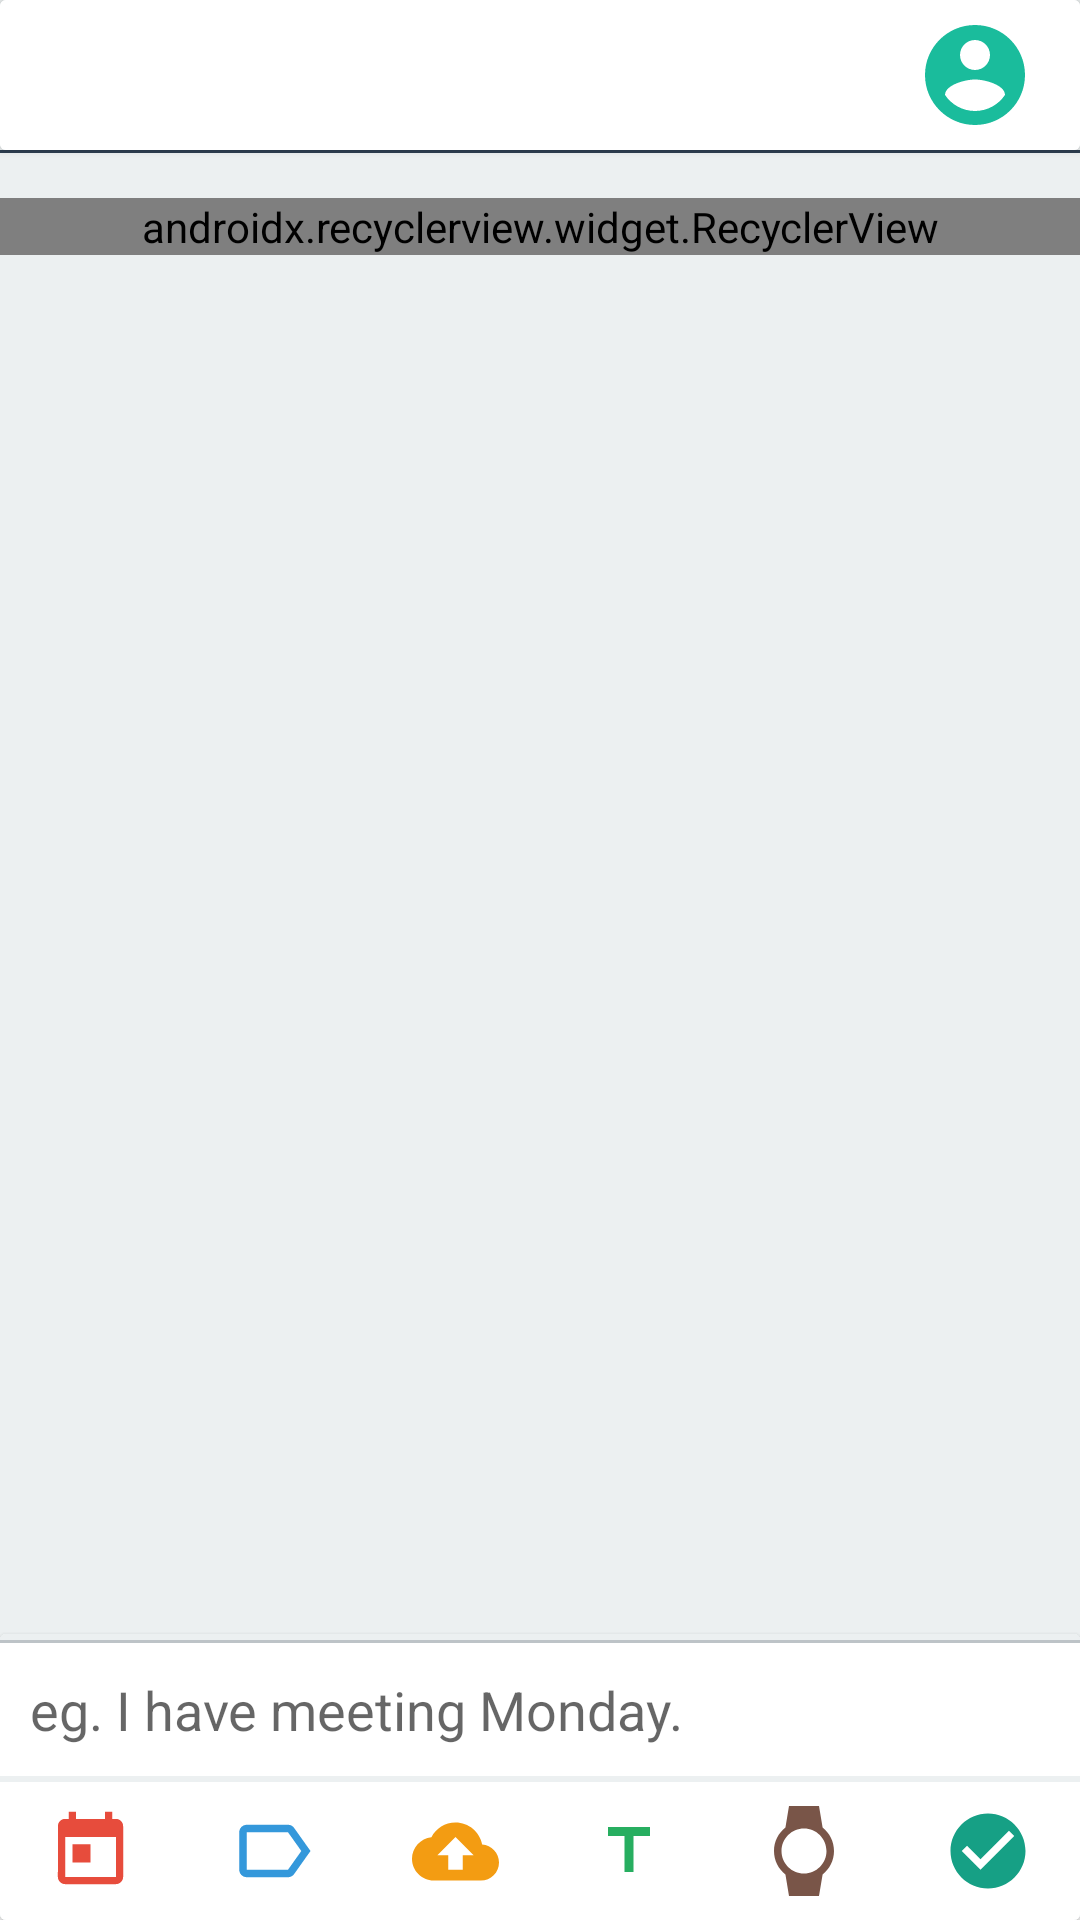

Icons on this 1080 × 1920 Android screen, each with the point to tap as (x=x, y=y):
account: (x=975, y=75)
cloud upload: (x=455, y=1851)
date: (x=62, y=1865)
label: (x=275, y=1851)
title: (x=629, y=1849)
true: (x=1015, y=1866)
watch: (x=804, y=1851)
